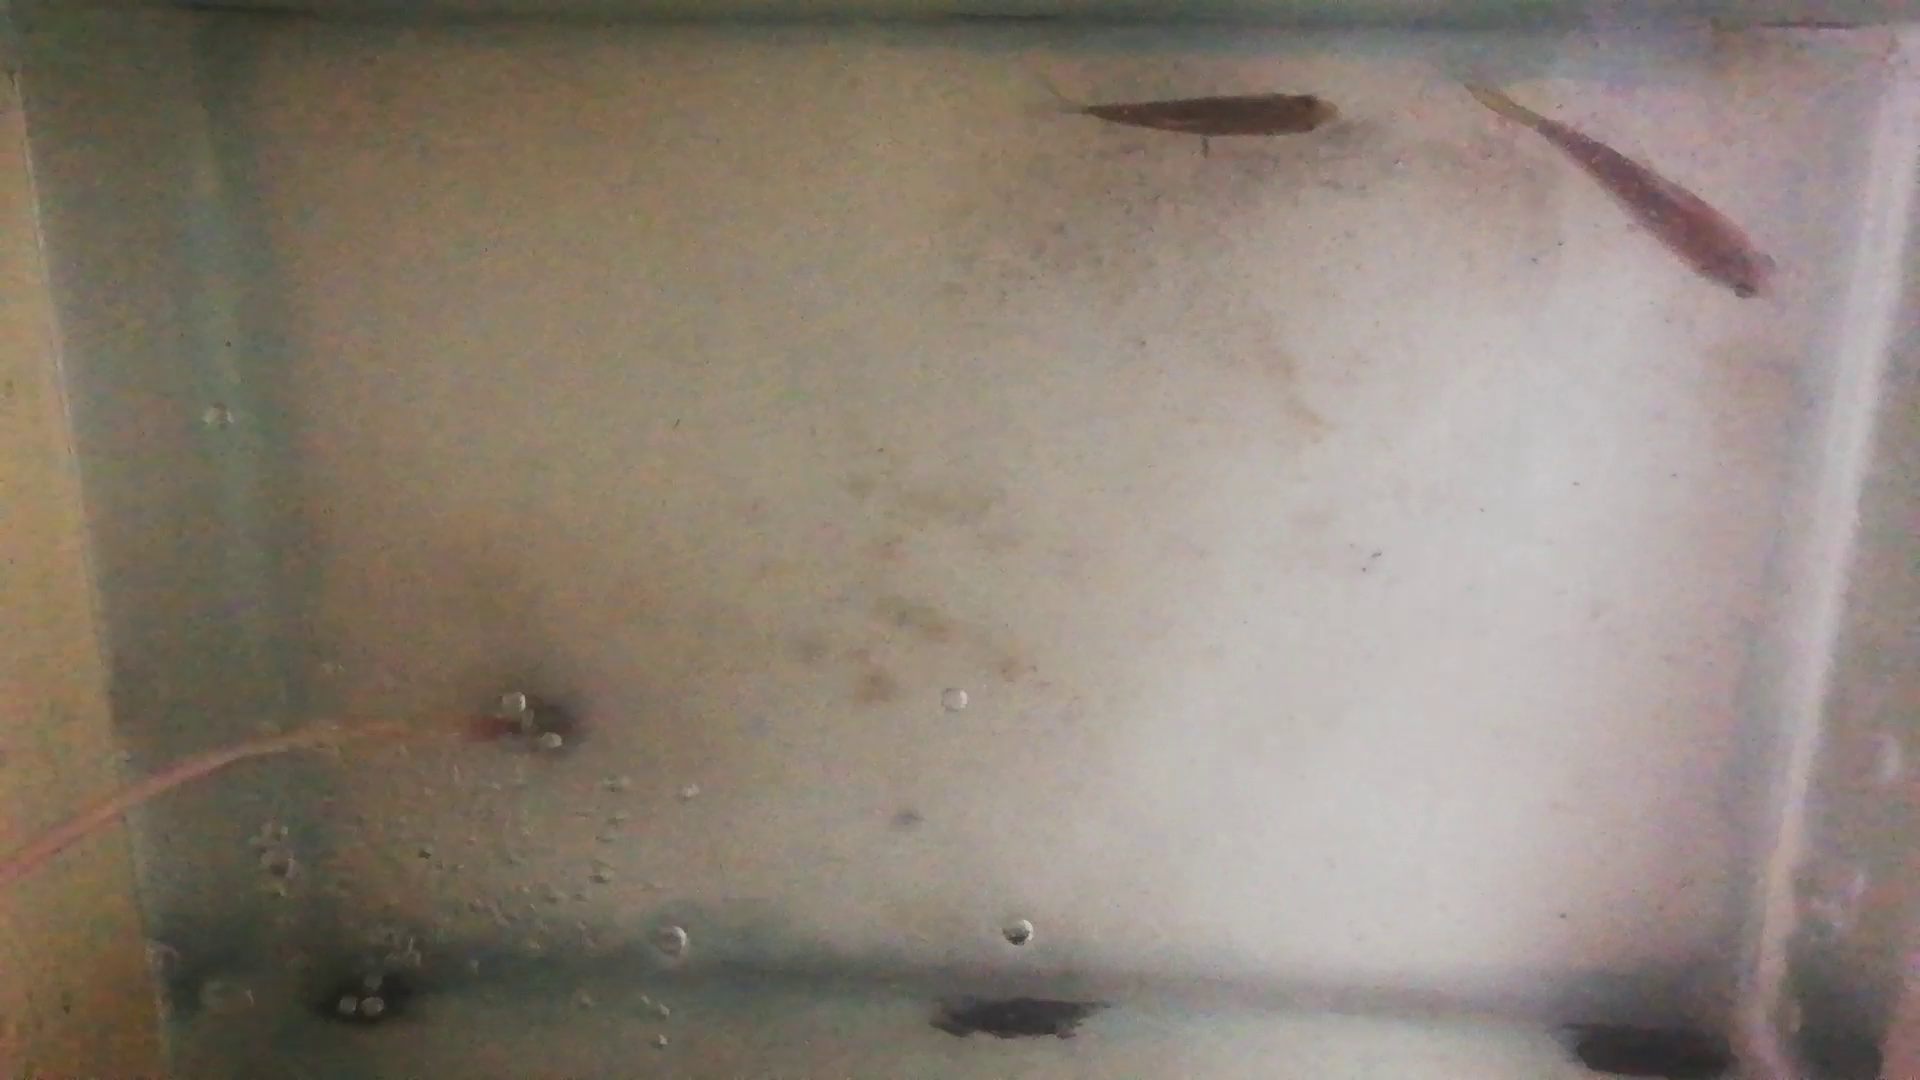fish: (1534, 116, 1779, 306), (1079, 94, 1342, 138)
